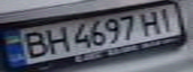4: (72, 20, 93, 50)
6: (87, 17, 109, 47)
7: (118, 12, 142, 39)
9: (103, 16, 124, 44)
B: (15, 29, 51, 60)
H: (39, 25, 72, 54), (136, 8, 166, 36)
I: (151, 6, 181, 31)
